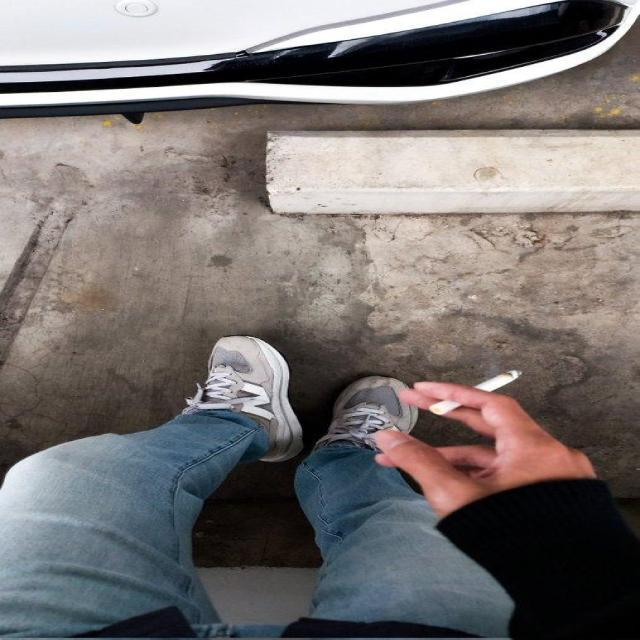rokok: (408, 362, 528, 413)
